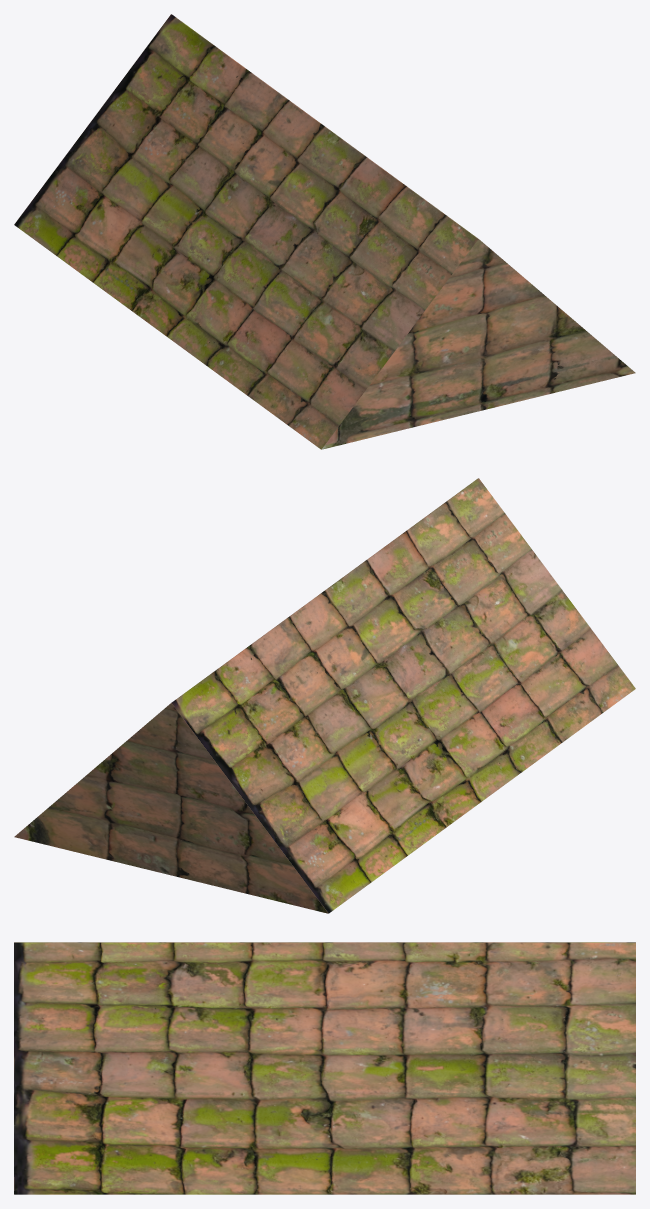
Rendered from Storm Village_House_Roof.fbx.
The picture shows the model from 3 angles, top to bottom: view 1: azimuth 30°, elevation 25°; view 2: azimuth 150°, elevation 25°; view 3: azimuth 270°, elevation 25°; orthographic projection.
Visible parts, largest first — view 1: Roof, Roof.001, Roof.002, Roof.005, Roof.004, Roof.006, Roof.007, Roof.003; view 2: Roof, Roof.001, Roof.004, Roof.002, Roof.003, Roof.005, Roof.006, Roof.007; view 3: Roof.001, Roof.004, Roof.007, Roof.002, Roof.003, Roof.005, Roof.006, Roof.
Part boxes in pixels (x1,y1,x2,y2): Roof: (14,14,635,449); Roof.001: (20,19,218,259); Roof.002: (62,50,261,290); Roof.005: (189,142,387,383); Roof.004: (147,111,345,352); Roof.006: (231,173,429,414); Roof.007: (273,204,471,445); Roof.003: (105,81,303,321); Roof: (14,478,635,913); Roof.001: (178,668,376,908); Roof.004: (304,575,503,816); Roof.002: (220,637,418,877); Roof.003: (262,606,460,847); Roof.005: (346,544,545,785); Roof.006: (389,514,587,754); Roof.007: (431,483,629,723); Roof.001: (538,942,623,1194); Roof.004: (282,942,367,1194); Roof.007: (26,942,111,1194); Roof.002: (453,942,538,1194); Roof.003: (367,942,452,1194); Roof.005: (197,942,282,1194); Roof.006: (111,942,196,1194); Roof: (14,942,635,1194).
Bounding box in the file's own units: 824 × 431 × 1395.
